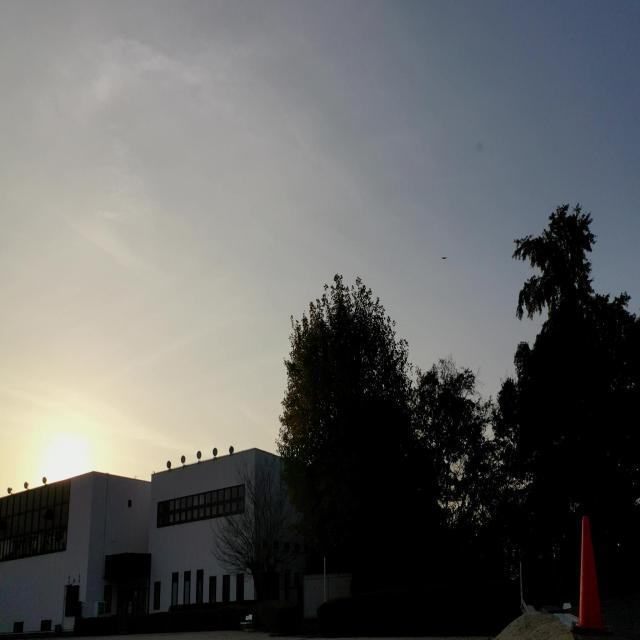Birds: (437, 250, 451, 266)
